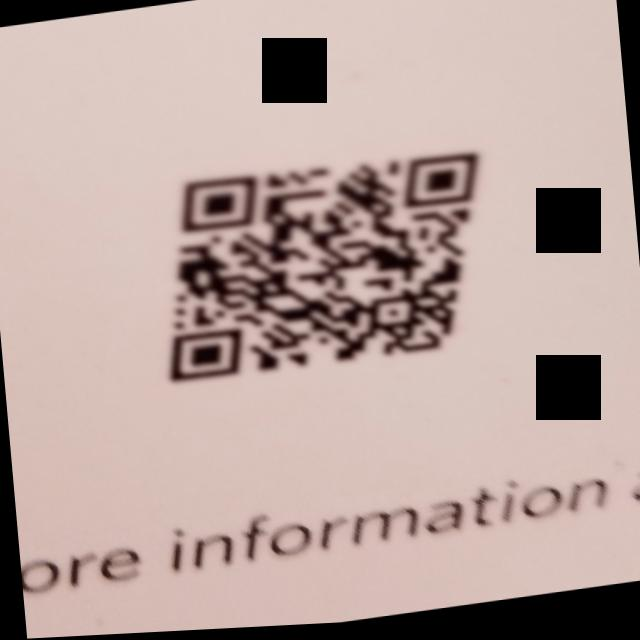QR_CODE: (120, 89, 522, 430)
